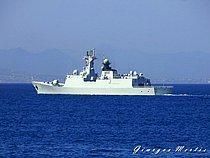MIL_Ship: (31, 47, 176, 97)
